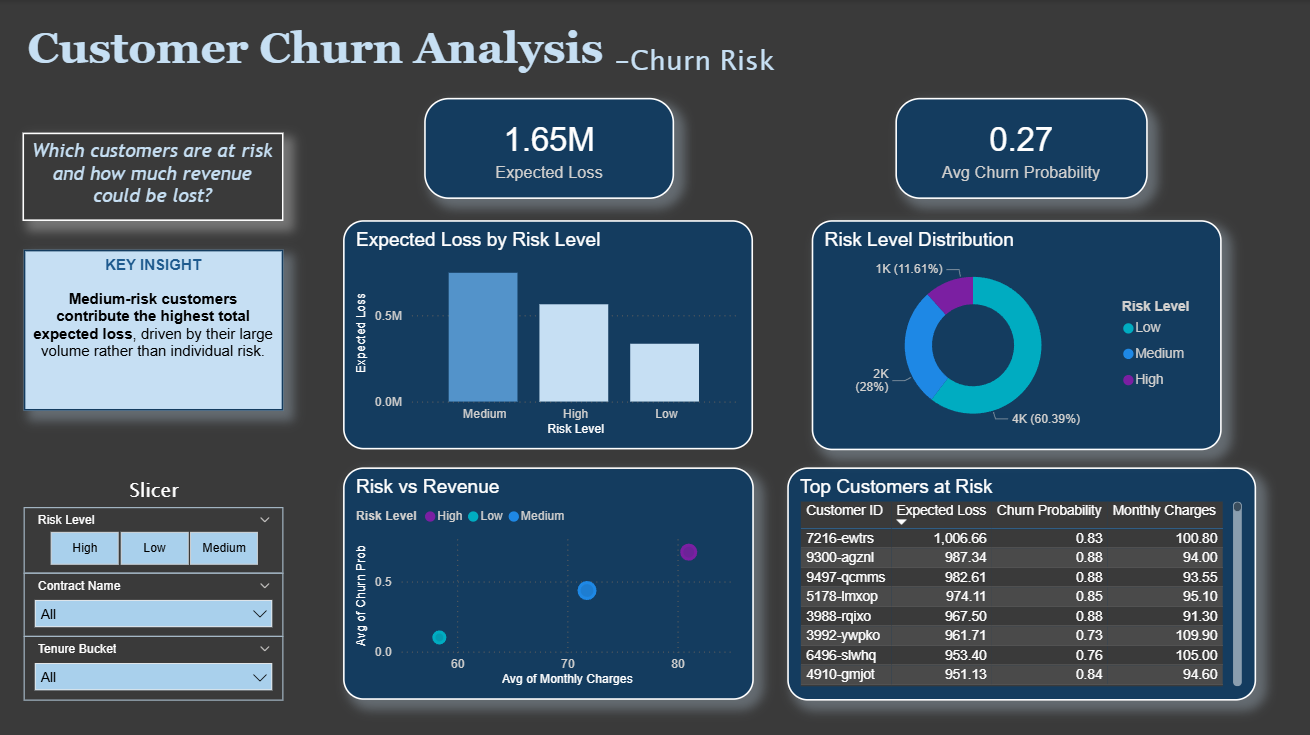

The page's visual inventory and layout, read from the dashboard file:
{"tool":"powerbi","page":{"name":"Churn Risk","canvas":[1280,720],"ordinal":3},"visuals":[{"type":"card","fields":{"Values":["public churn_dashboard_dataset.Expected Loss"]},"box":[416.4,95.1,244.3,98.4],"z":0},{"type":"card","fields":{"Values":["public churn_dashboard_dataset.Avg Churn Probability"]},"box":[875.4,95.1,245.9,98.4],"z":1000},{"type":"clusteredColumnChart","title":"Expected Loss by Risk Level","fields":{"Category":["public churn_dashboard_dataset.risk_level"],"Y":["public churn_dashboard_dataset.Expected Loss"]},"box":[336.2,214.7,400,223.8],"z":2000},{"type":"scatterChart","title":"Risk vs Revenue","fields":{"X":["Avg(public churn_dashboard_dataset.monthly_charges)"],"Y":["Avg(public churn_dashboard_dataset.churn_probability)"],"Size":["Sum(public churn_dashboard_dataset.expected_loss)"],"Series":["public churn_dashboard_dataset.risk_level"]},"box":[336.6,455.7,400.6,226.6],"z":3000},{"type":"tableEx","title":"Top Customers at Risk","fields":{"Values":["public churn_dashboard_dataset.customer_id","public churn_dashboard_dataset.expected_loss","public churn_dashboard_dataset.churn_probability","public churn_dashboard_dataset.monthly_charges"]},"box":[770,456,457.2,227.4],"z":4000},{"type":"donutChart","title":"Risk Level Distribution","fields":{"Y":["public churn_dashboard_dataset.Total Customers"],"Category":["public churn_dashboard_dataset.risk_level"]},"box":[793.9,215.2,400,224.2],"z":5000},{"type":"textbox","box":[24.2,18.2,850,78.8],"z":6000},{"type":"textbox","box":[24.2,128.8,254.5,86.4],"z":7000},{"type":"group","id":"g1","title":"Group 1","box":[25.3,460,254.7,224],"z":8000},{"type":"textbox","box":[24.7,244.2,253.2,157.1],"z":9000},{"type":"slicer","fields":{"Values":["public churn_dashboard_dataset.tenure_bucket"]},"box":[25.3,620.9,253.4,63.1],"z":9000,"group":"g1"},{"type":"textbox","box":[25.3,460,254.7,43.8],"z":11000,"group":"g1"},{"type":"slicer","title":"Spending Segment","fields":{"Values":["public churn_dashboard_dataset.contract_name"]},"box":[25.3,559.1,253.4,61.8],"z":12000,"group":"g1"},{"type":"slicer","title":"Risk Level","fields":{"Values":["public churn_dashboard_dataset.risk_level"]},"box":[25.3,494.8,253.4,64.2],"z":14000,"group":"g1"}]}

Visuals, with their boxes in screenshot pixels (x1, y1, x2, y2), scaled from the page's 1280x720 canvas onto the 1310x735 screenshot:
card - public churn_dashboard_dataset.Expected Loss: left=426, top=97, right=676, bottom=198
card - public churn_dashboard_dataset.Avg Churn Probability: left=896, top=97, right=1148, bottom=198
"Expected Loss by Risk Level" clusteredColumnChart: left=344, top=219, right=753, bottom=448
"Risk vs Revenue" scatterChart: left=344, top=465, right=754, bottom=697
"Top Customers at Risk" tableEx: left=788, top=465, right=1256, bottom=698
"Risk Level Distribution" donutChart: left=813, top=220, right=1222, bottom=449
textbox: left=25, top=19, right=895, bottom=99
textbox: left=25, top=131, right=285, bottom=220
"Group 1" group: left=26, top=470, right=287, bottom=698
textbox: left=25, top=249, right=284, bottom=410
slicer - public churn_dashboard_dataset.tenure_bucket: left=26, top=634, right=285, bottom=698
textbox: left=26, top=470, right=287, bottom=514
"Spending Segment" slicer: left=26, top=571, right=285, bottom=634
"Risk Level" slicer: left=26, top=505, right=285, bottom=571
